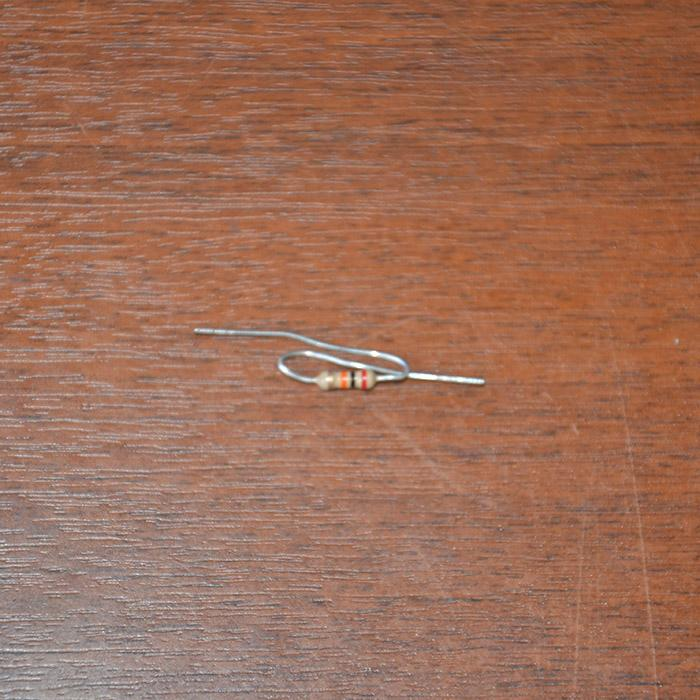resistor: (314, 368, 375, 391)
